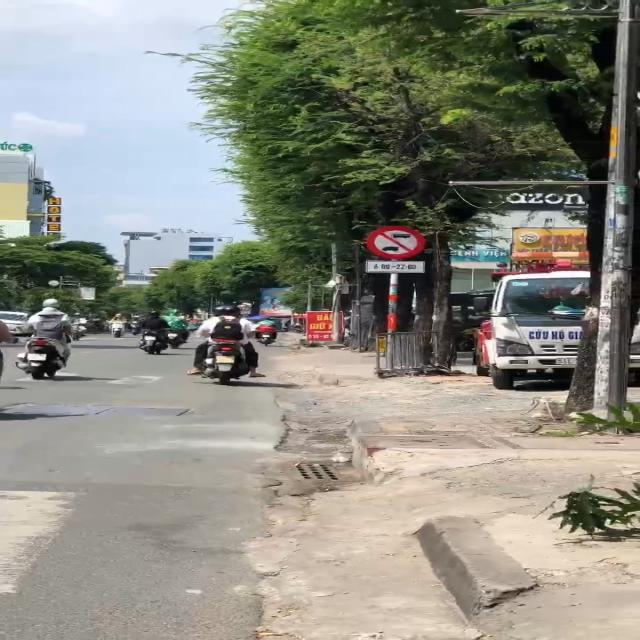Bien bao cam xe oto khach va xe oto tai: (360, 222, 428, 259)
